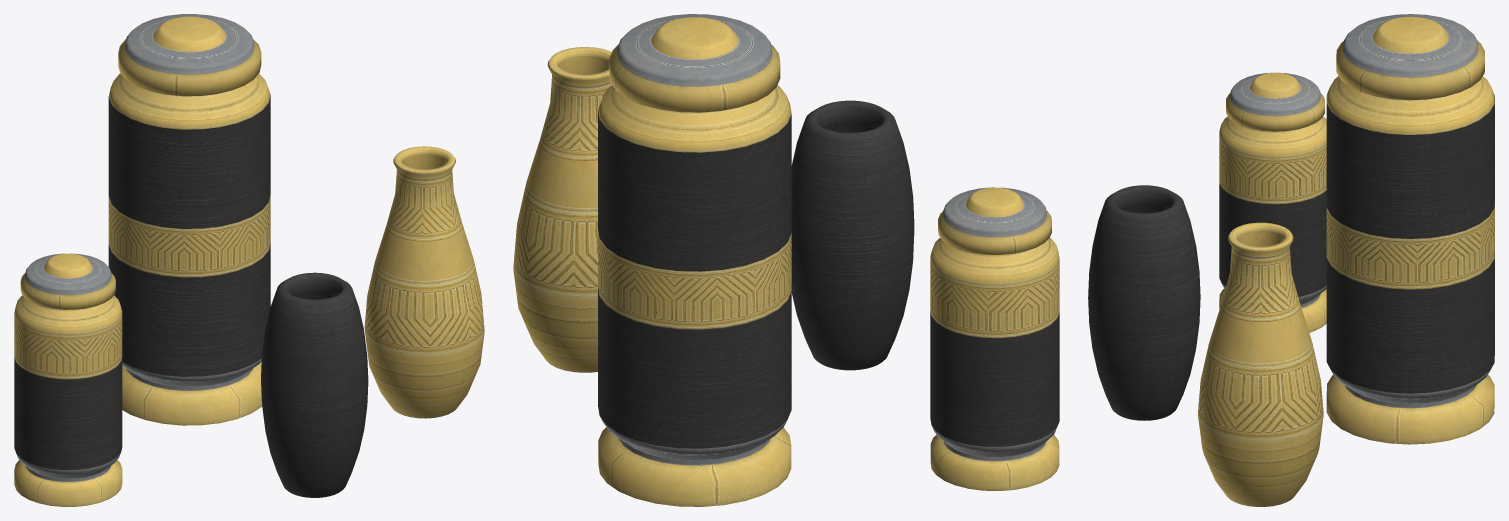
The model's file is golden_and_obsidian_vases_free_version.glb.
The picture shows the model from 3 angles, left to right: view 1: azimuth 30°, elevation 25°; view 2: azimuth 150°, elevation 25°; view 3: azimuth 270°, elevation 25°; orthographic projection. The views are drawn at different scales.
Parts seen in each view (by area): view 1: Vessel_01, Vessel_02, Vase_02, Vase_01; view 2: Vessel_01, Vessel_02, Vase_01, Vase_02; view 3: Vessel_01, Vase_02, Vase_01, Vessel_02.
Boxes of the visible parts, x1,y1,x2,y2 form: Vessel_01: [108, 14, 270, 425]; Vessel_02: [14, 253, 122, 506]; Vase_02: [364, 146, 484, 418]; Vase_01: [261, 272, 368, 497]; Vessel_01: [598, 14, 791, 506]; Vessel_02: [930, 187, 1059, 490]; Vase_01: [791, 100, 914, 370]; Vase_02: [513, 47, 611, 372]; Vessel_01: [1326, 14, 1494, 444]; Vase_02: [1197, 222, 1323, 506]; Vase_01: [1088, 185, 1200, 420]; Vessel_02: [1219, 72, 1326, 332].
Size of the model in its own units: 1.43 by 1.11 by 1.08.
1 material, 1 textured.
